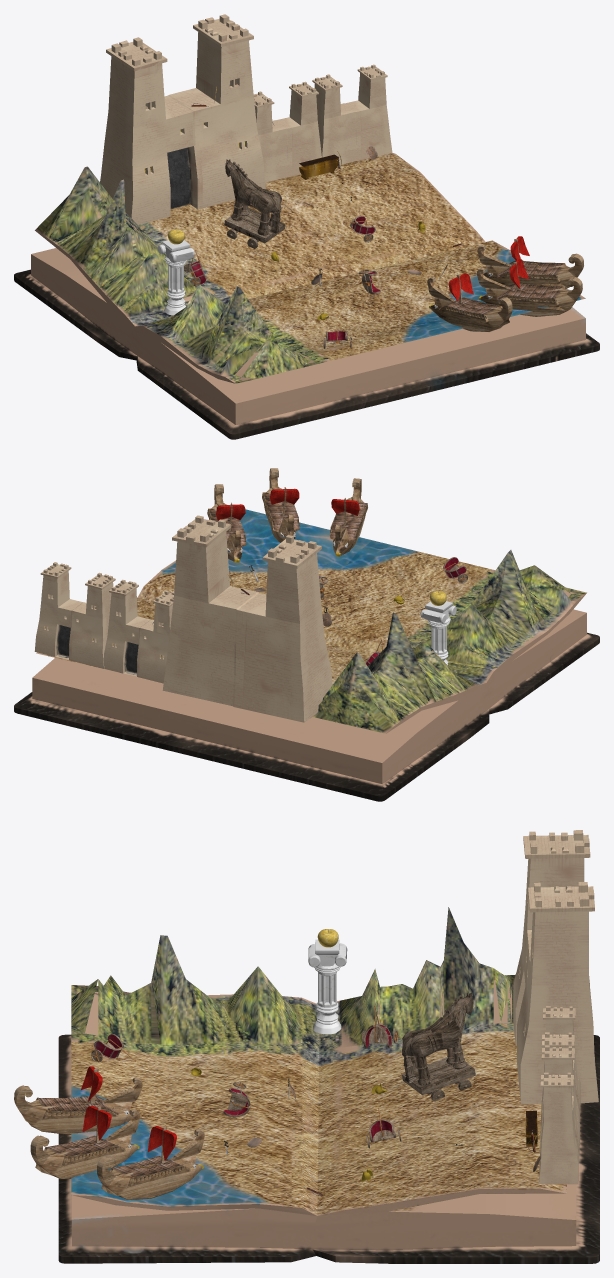
File: cavaleiro.glb
The picture shows the model from 3 angles, top to bottom: view 1: azimuth 30°, elevation 25°; view 2: azimuth 150°, elevation 25°; view 3: azimuth 270°, elevation 25°; orthographic projection. The views are drawn at different scales.
Visible parts, largest first — view 1: Object_8, Object_12, Object_13, Object_7, Object_17, Object_21, Object_6, Object_22, Object_3, Object_20, Object_5; view 2: Object_8, Object_12, Object_13, Object_7, Object_17, Object_6, Object_2; view 3: Object_8, Object_12, Object_13, Object_17, Object_6, Object_21, Object_3, Object_22, Object_5.
Part boxes in pixels (bbox=[...]): Object_8: bbox=[14, 153, 599, 439]; Object_12: bbox=[100, 14, 392, 224]; Object_13: bbox=[427, 236, 583, 331]; Object_7: bbox=[127, 308, 597, 439]; Object_17: bbox=[157, 240, 194, 315]; Object_21: bbox=[225, 160, 281, 213]; Object_6: bbox=[189, 215, 380, 346]; Object_22: bbox=[224, 207, 285, 248]; Object_3: bbox=[226, 159, 281, 235]; Object_20: bbox=[299, 154, 338, 179]; Object_5: bbox=[184, 217, 380, 348]; Object_8: bbox=[14, 509, 599, 801]; Object_12: bbox=[34, 515, 332, 722]; Object_13: bbox=[207, 468, 367, 562]; Object_7: bbox=[17, 638, 599, 800]; Object_17: bbox=[420, 601, 456, 665]; Object_6: bbox=[319, 557, 467, 665]; Object_2: bbox=[153, 603, 169, 635]; Object_8: bbox=[58, 907, 599, 1263]; Object_12: bbox=[513, 830, 598, 1184]; Object_13: bbox=[14, 1066, 204, 1199]; Object_17: bbox=[308, 939, 347, 1034]; Object_6: bbox=[91, 1007, 401, 1142]; Object_21: bbox=[402, 993, 473, 1057]; Object_3: bbox=[402, 992, 471, 1085]; Object_22: bbox=[401, 1057, 475, 1101]; Object_5: bbox=[92, 1005, 403, 1148].
Size of the model in its own units: 20 by 11.25 by 22.26.
14 materials, 13 textured.
